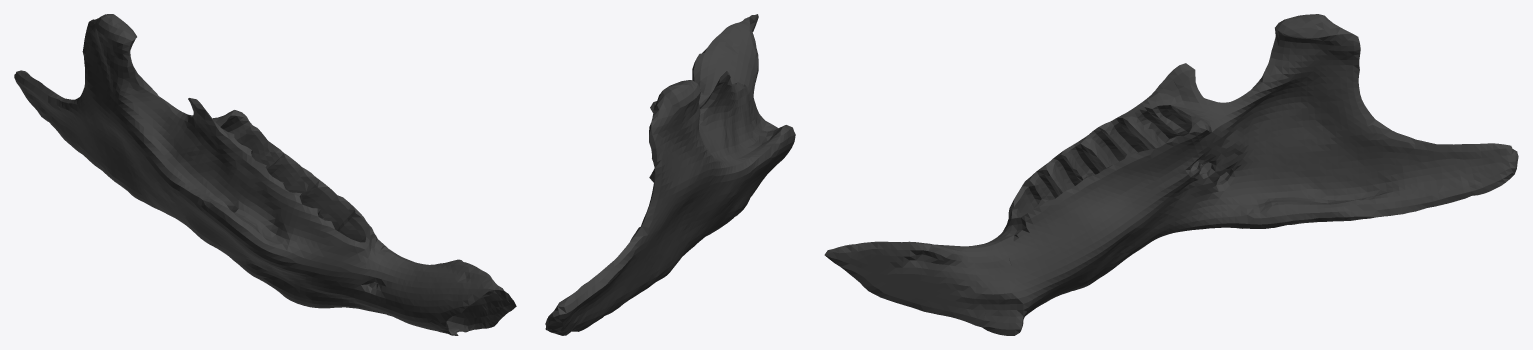
Rendered from Jaw.glb.
3 renders of one model, left to right at view 1: azimuth 30°, elevation 25°; view 2: azimuth 150°, elevation 25°; view 3: azimuth 270°, elevation 25°, orthographic. The views are drawn at different scales.
Visible parts, largest first — view 1: Jaw; view 2: Jaw; view 3: Jaw.
Boxes of the visible parts, x1,y1,x2,y2 form: Jaw: [14, 14, 516, 335]; Jaw: [545, 14, 795, 335]; Jaw: [824, 14, 1518, 335].
Bounding box in the file's own units: 1.34 × 1.68 × 4.43.
Materials: 1 (1 with a texture image).
